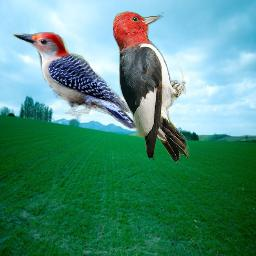Woodpecker: (13, 32, 138, 129), (113, 10, 191, 163)
